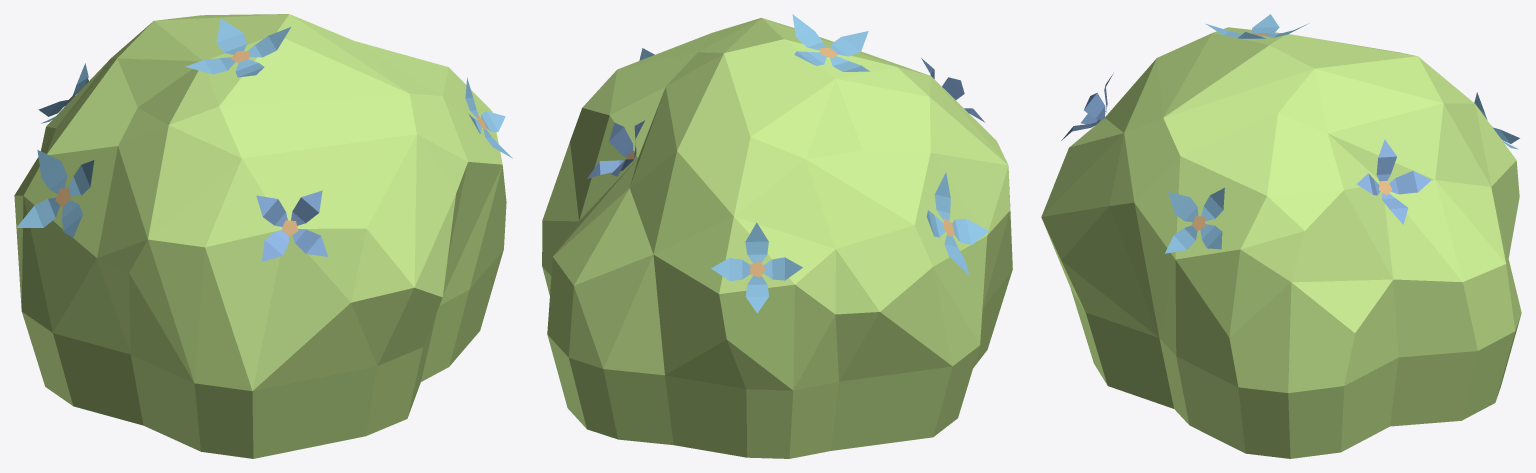
The model's file is FlowerBush_b_l_04.fbx.
The picture shows the model from 3 angles, left to right: view 1: azimuth 30°, elevation 25°; view 2: azimuth 150°, elevation 25°; view 3: azimuth 270°, elevation 25°; orthographic projection. The views are drawn at different scales.
Parts seen in each view (by area): view 1: FlowerBush_b_l_04; view 2: FlowerBush_b_l_04; view 3: FlowerBush_b_l_04.
Part boxes in pixels (x1=…): FlowerBush_b_l_04: x1=14, y1=14, x2=512, y2=458; FlowerBush_b_l_04: x1=542, y1=14, x2=1012, y2=458; FlowerBush_b_l_04: x1=1041, y1=14, x2=1521, y2=458.
Bounding box in the file's own units: 3.2 × 2.38 × 3.1.
